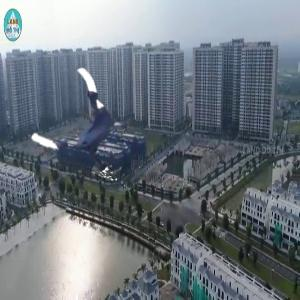drone: (40, 72, 138, 170)
